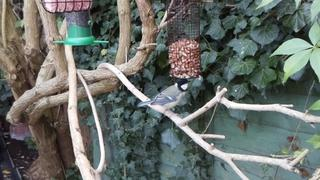great tit: (136, 78, 192, 119)
